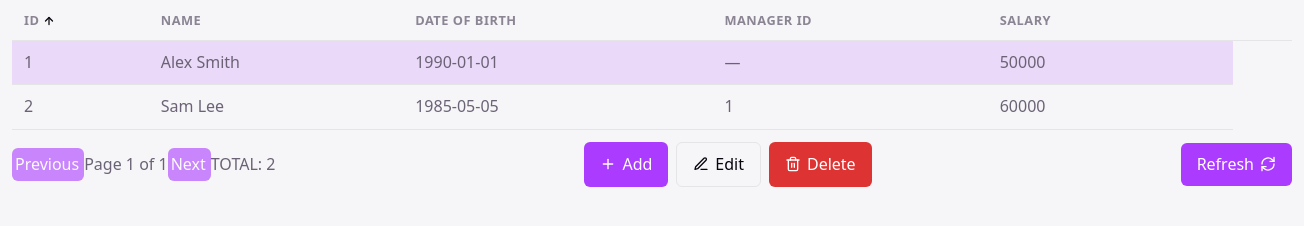
Test case: PersonList: row edit mode › saves every changed field with one PUT, then shows the saved row from the reloaded list
The width and height of the screenshot is (1304, 226).
Check: the text "Alex Smith" is shown, box 149,41 -> 403,85
Click the button "Edit".
click(719, 164)  # box 676,142 -> 761,187
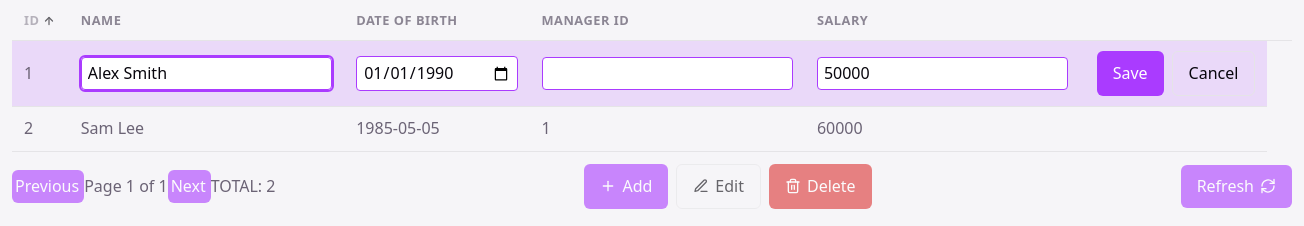
Replace the text in the field named "Name" with "  Alexander Smith  " at (206, 74), box 81,57 -> 332,90
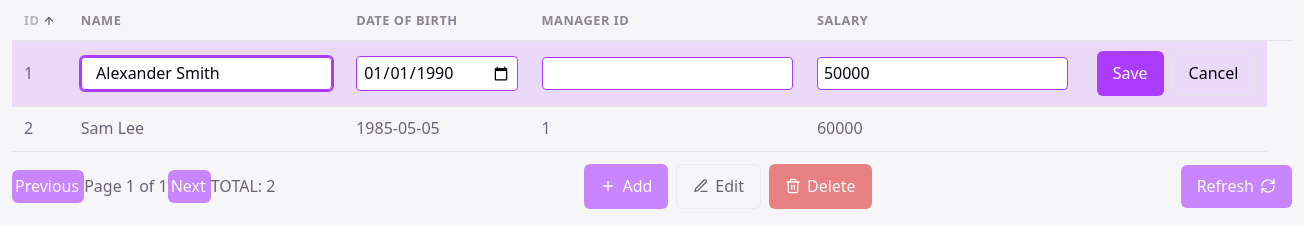
Type "1991-02-03" into the date field named "Date of birth".
click(437, 74); type("1991-02-03")  # box 356,56 -> 518,91
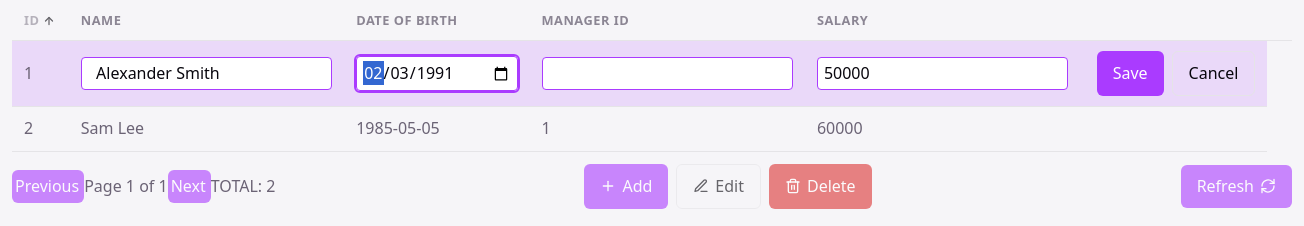
Type "2" into the number field named "Manager Id".
click(667, 74); type("2")  # box 542,57 -> 793,90
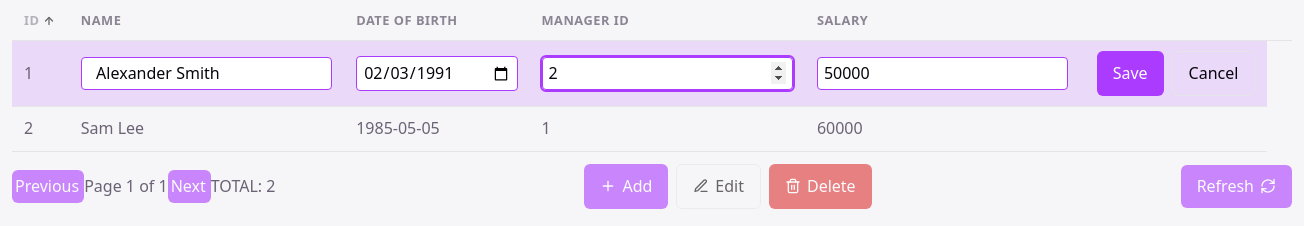
Replace the text in the number field named "Salary" with "55000" at (943, 74), box 817,57 -> 1068,90
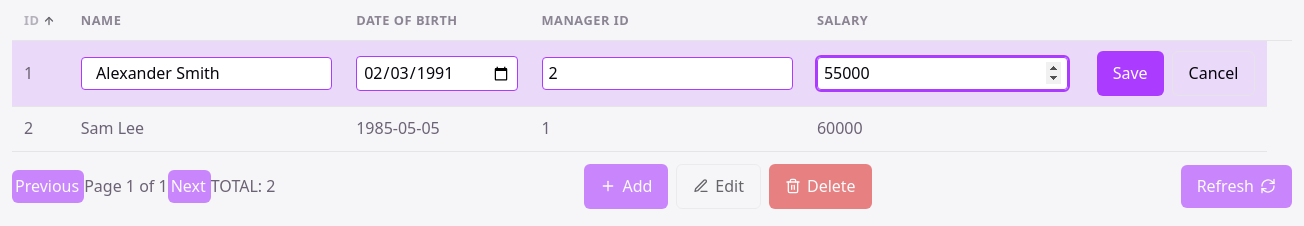
Click the button "Save".
click(1130, 74)  # box 1097,51 -> 1164,96
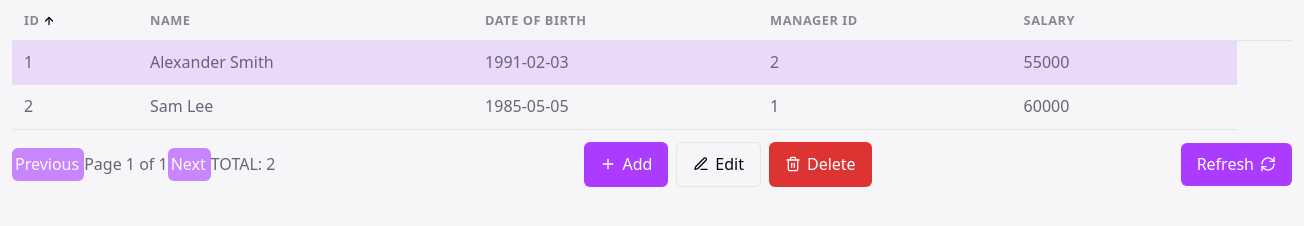
Check: the text "Alexander Smith" is shown, box 138,41 -> 473,85
Check: the button "Save" is gone
Check: the text "1991-02-03" is shown, box 473,41 -> 758,85
